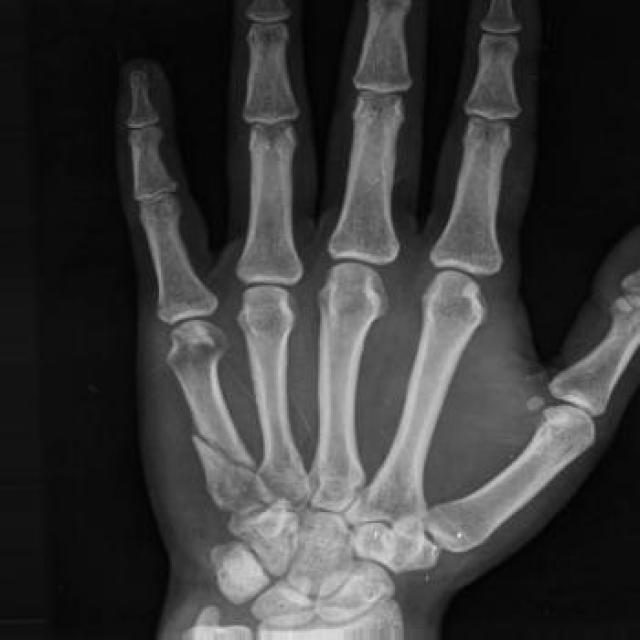Fracture: (186, 426, 258, 485)
